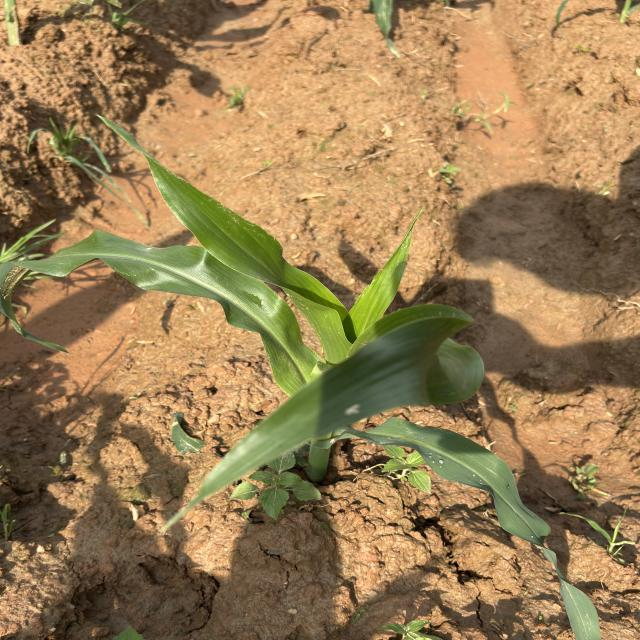maize: (107, 204, 520, 444), (455, 448, 546, 551)
weed: (558, 469, 640, 519), (10, 226, 43, 332), (368, 454, 438, 490), (259, 472, 294, 516)
